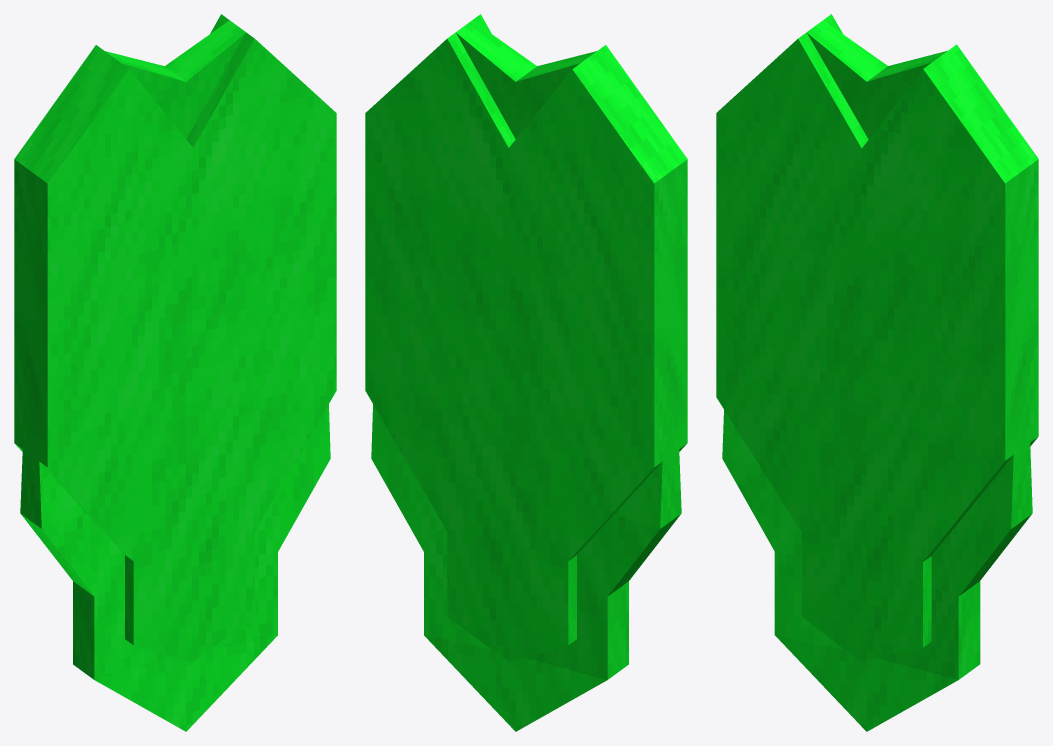
The model's file is armor_small.glb.
3 views of the same model, side by side, from view 1: azimuth 30°, elevation 25°; view 2: azimuth 150°, elevation 25°; view 3: azimuth 330°, elevation 25° (orthographic).
Visible parts, largest first — view 1: armor smoll; view 2: armor smoll; view 3: armor smoll.
Part boxes in pixels (x1,y1,x2,y2): armor smoll: (14,14,336,731); armor smoll: (365,14,687,731); armor smoll: (716,14,1038,731).
Bounding box in the file's own units: 1.47 × 3.33 × 0.2963.
Materials: 1 (1 with a texture image).
